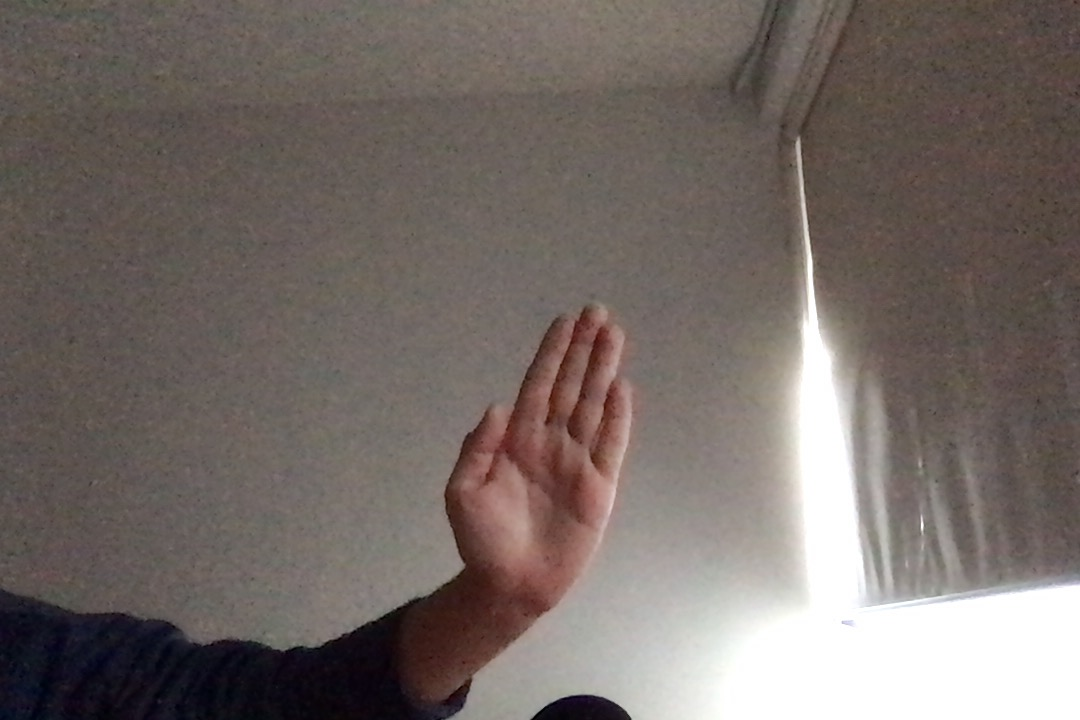palmhand: (440, 297, 638, 616)
